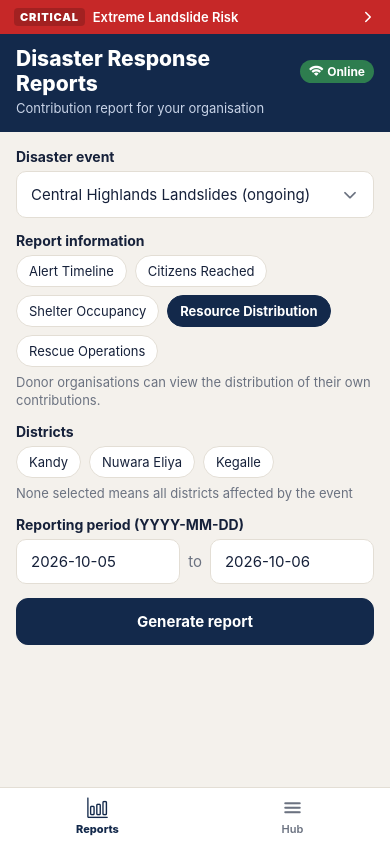
Test: React Native screens (presentation layer smoke tests) › stops a donor from requesting restricted statistics (UC05 E3)
The width and height of the screenshot is (390, 844).
Click the checkbox labelled "Shelter Occupancy".
click(88, 311)  # box [16,295,159,327]
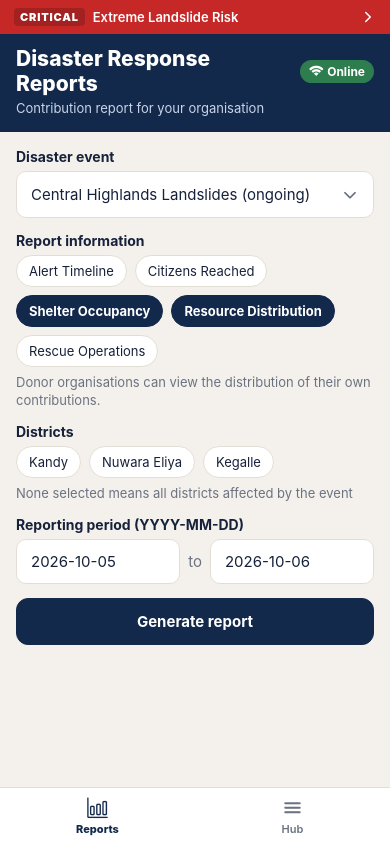
Click the button "Generate report".
click(195, 622)  # box [16,598,374,645]
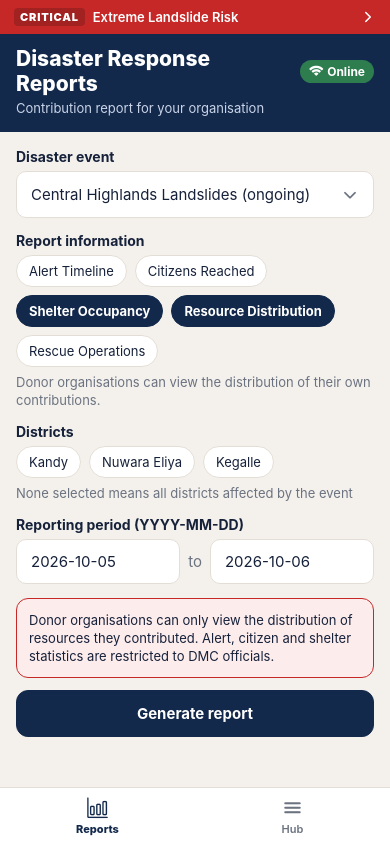
Expected: the text "Donor organisations can only view" is shown, [29,612,356,664]
